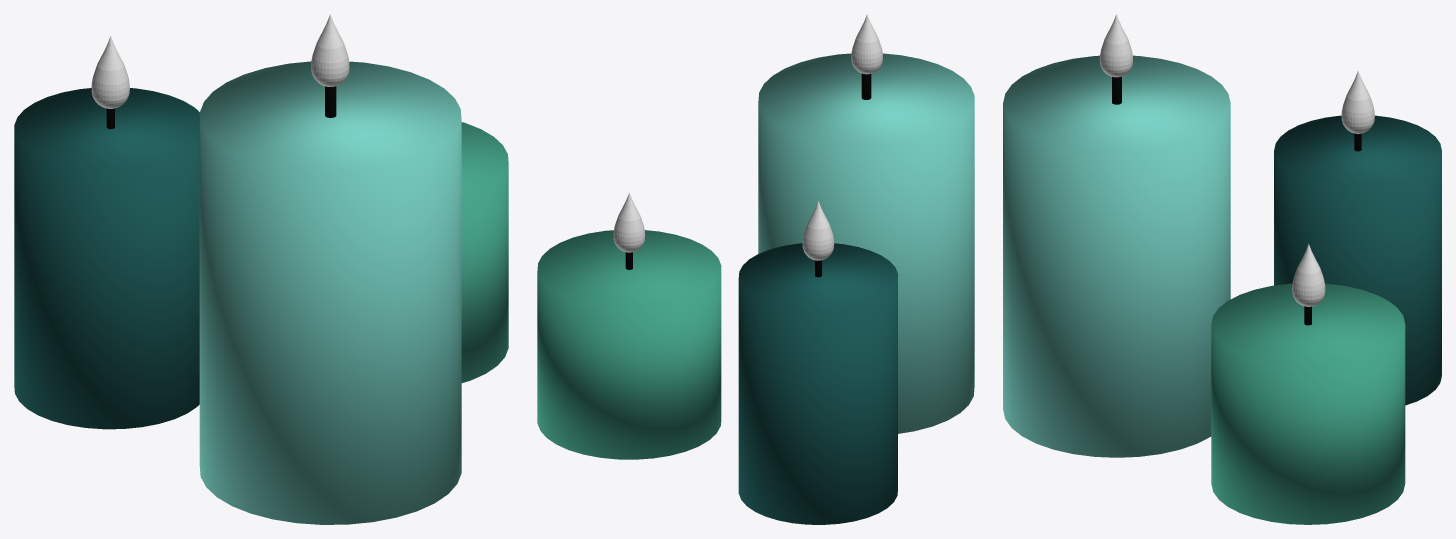
Rendered from Kaarsen.fbx.
3 renders of one model, left to right at view 1: azimuth 30°, elevation 25°; view 2: azimuth 150°, elevation 25°; view 3: azimuth 270°, elevation 25°, orthographic. The views are drawn at different scales.
Parts seen in each view (by area): view 1: Cylinder, Cylinder.005, Cylinder.003, Sphere.002, Sphere.001; view 2: Cylinder, Cylinder.005, Cylinder.003, Sphere.002, Sphere.001, Sphere; view 3: Cylinder, Cylinder.003, Cylinder.005, Sphere.002, Sphere, Sphere.001.
Boxes of the visible parts, x1,y1,x2,y2 form: Cylinder: (199, 61, 461, 524); Cylinder.005: (14, 88, 199, 429); Cylinder.003: (461, 122, 508, 382); Sphere.002: (91, 36, 129, 108); Sphere.001: (311, 14, 349, 86); Cylinder: (758, 53, 974, 433); Cylinder.005: (738, 243, 897, 524); Cylinder.003: (537, 230, 721, 459); Sphere.002: (802, 201, 834, 260); Sphere.001: (851, 14, 882, 74); Sphere: (613, 193, 645, 252); Cylinder: (1003, 55, 1230, 457); Cylinder.003: (1211, 283, 1405, 524); Cylinder.005: (1274, 115, 1441, 405); Sphere.002: (1341, 71, 1374, 133); Sphere: (1292, 244, 1325, 306); Sphere.001: (1099, 14, 1132, 77).
Size of the model in its own units: 121 by 121 by 121.
